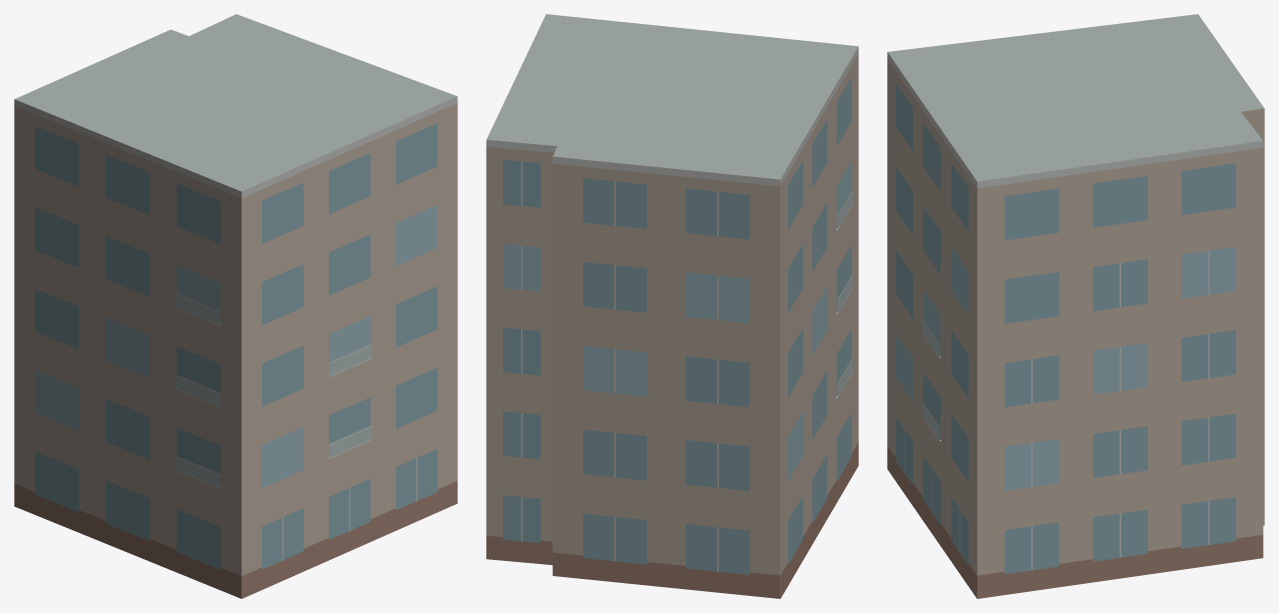
Rendered from survey-upis-32875163.glb.
The picture shows the model from 3 angles, left to right: view 1: azimuth 30°, elevation 25°; view 2: azimuth 150°, elevation 25°; view 3: azimuth 270°, elevation 25°; orthographic projection. The views are drawn at different scales.
Parts seen in each view (by area): view 1: survey-upis-32875163.tmp; view 2: survey-upis-32875163.tmp; view 3: survey-upis-32875163.tmp.
Boxes of the visible parts, bbox=[...] form: survey-upis-32875163.tmp: bbox=[14, 14, 457, 598]; survey-upis-32875163.tmp: bbox=[486, 14, 858, 598]; survey-upis-32875163.tmp: bbox=[887, 14, 1264, 598].
Size of the model in its own units: 12.77 by 14.8 by 12.13.
